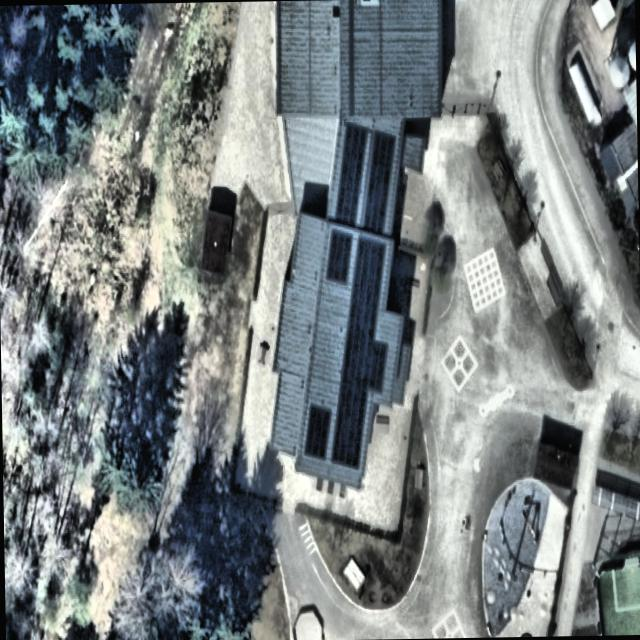roof_pv: (338, 233, 388, 361), (328, 362, 366, 476), (331, 120, 370, 226), (362, 133, 396, 235), (323, 224, 354, 286), (303, 401, 333, 460), (366, 336, 388, 396)
